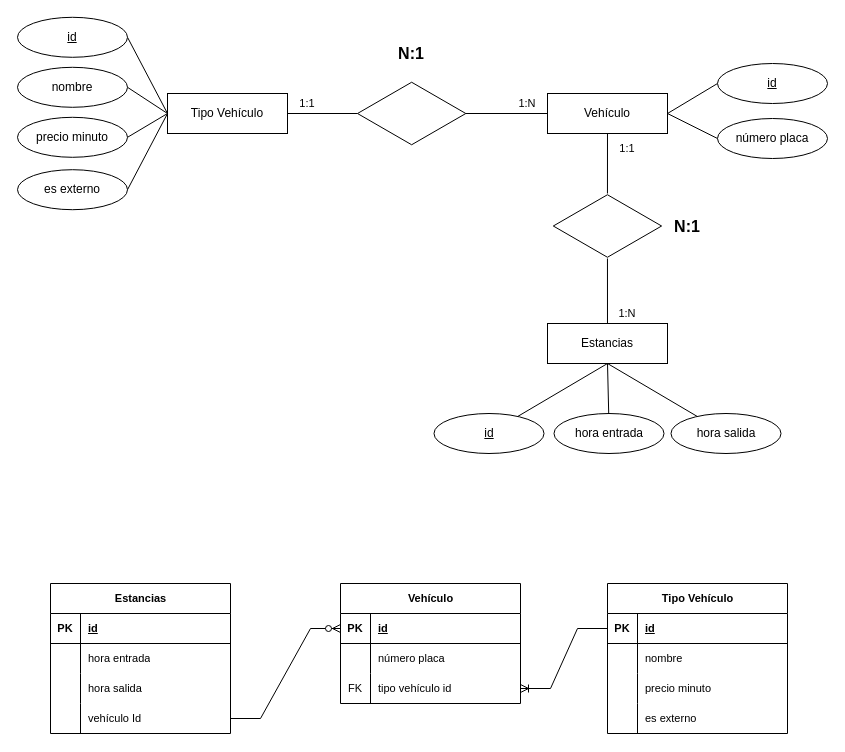
This 845x752 diagram has some shape labels left out. The centre of each missing label's shape, as x and y in pixels:
Clasificado: point (411, 113)
Realiza: point (607, 225)
